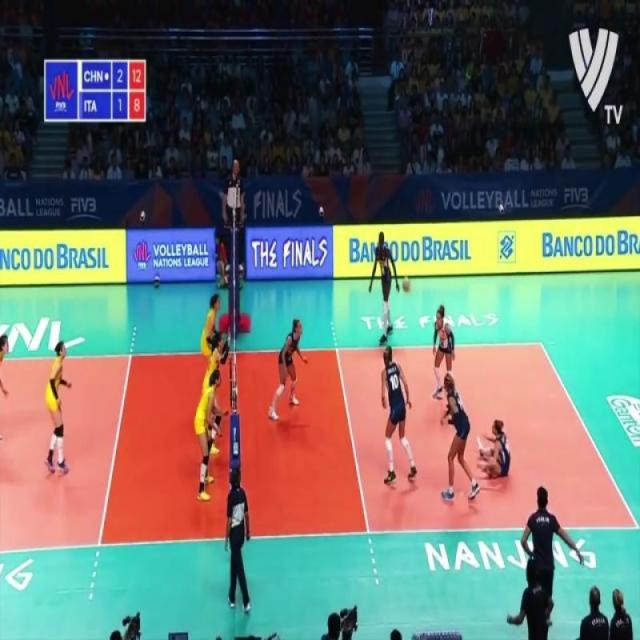volleyball: (401, 278, 412, 292), (154, 272, 160, 288)
